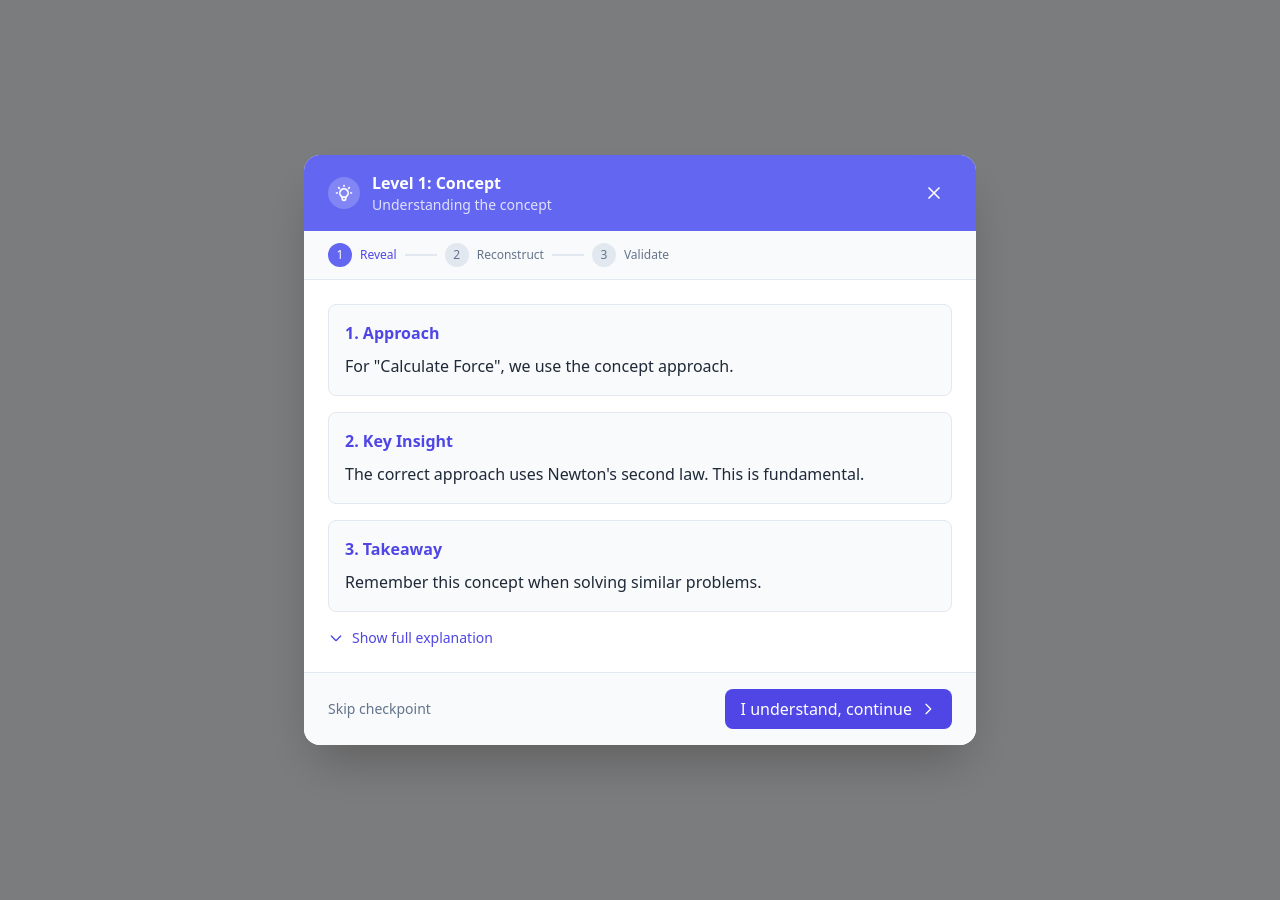
Test: RevealReconstructValidate › Reveal Stage › toggles more detail section
Click the button "Show full explanation" at (410, 638), box [328, 628, 493, 648]
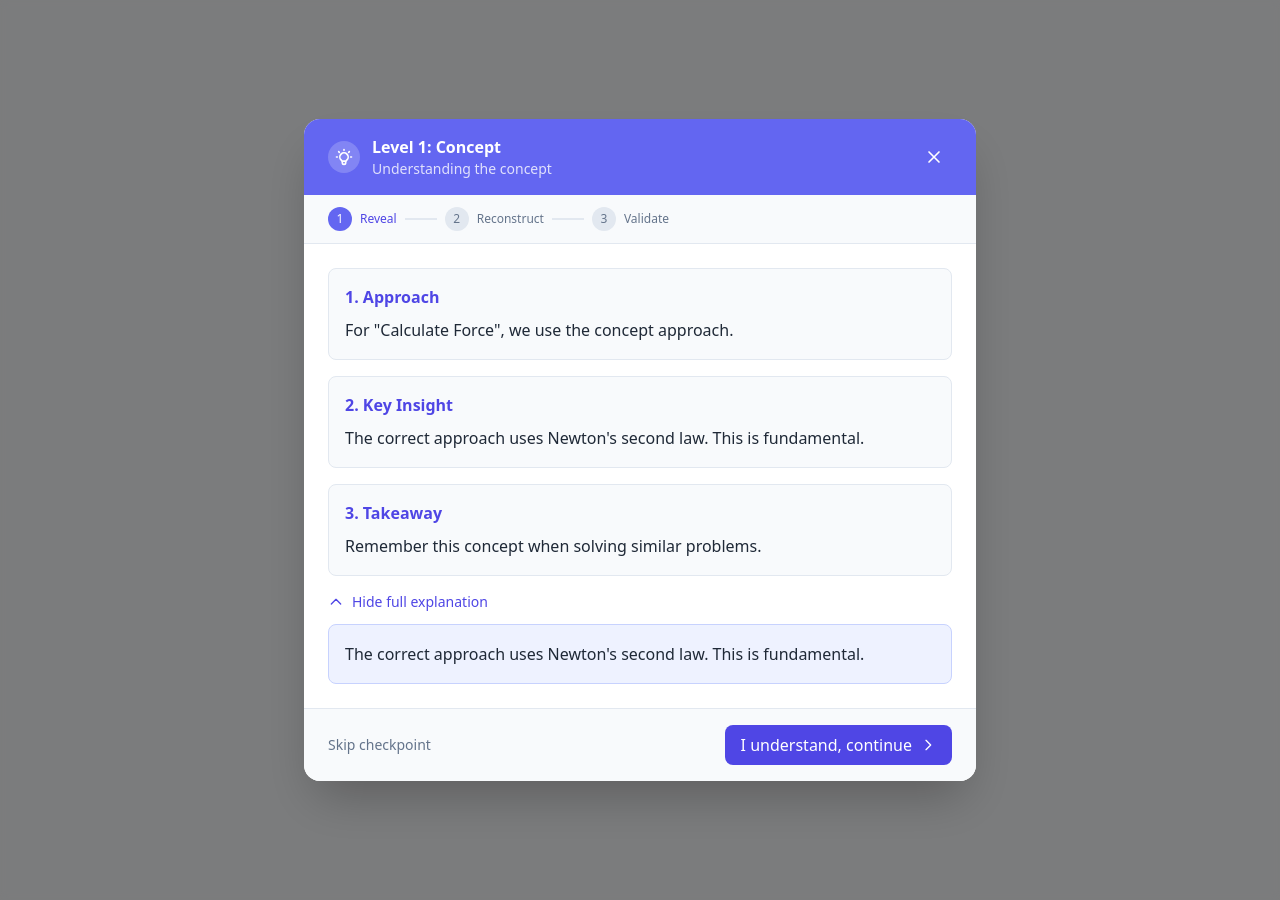
Now the button "Hide full explanation" is shown, box [328, 592, 488, 612]
